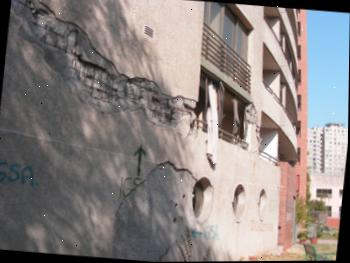spalling: (8, 0, 262, 262)
